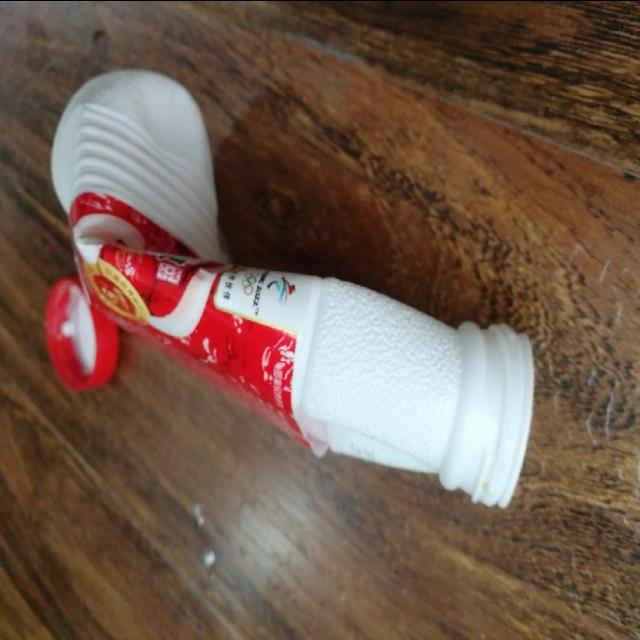-Recyclables - plastic bottle-: (52, 70, 534, 498)
